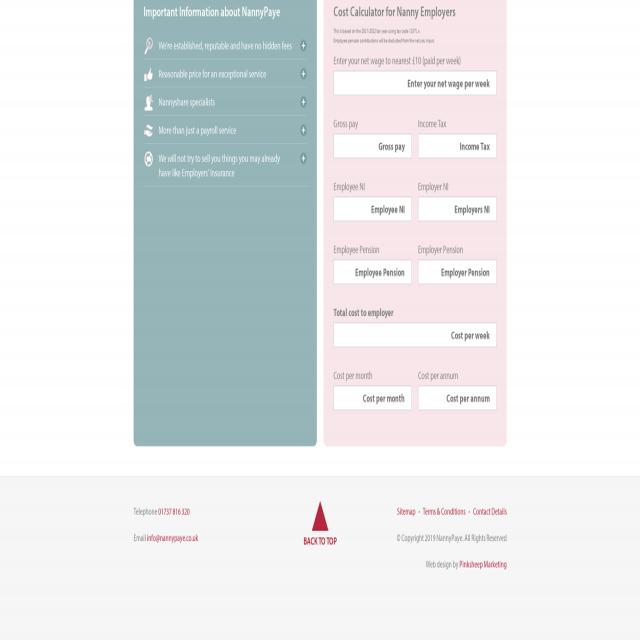button: (140, 144, 308, 189), (140, 86, 308, 115), (140, 58, 308, 86), (140, 116, 308, 142), (140, 33, 308, 57), (300, 489, 340, 558)
field: (334, 323, 496, 347), (334, 71, 496, 95), (333, 134, 412, 158), (333, 197, 412, 221), (333, 260, 412, 284), (333, 386, 412, 410), (418, 134, 496, 158), (418, 197, 496, 221), (418, 260, 496, 284), (418, 386, 496, 410)
